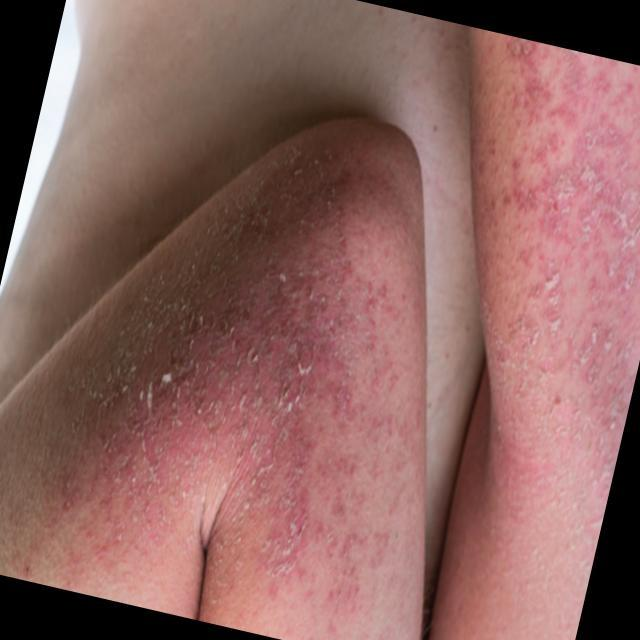Eczema: (29, 164, 390, 620), (473, 31, 640, 416)
